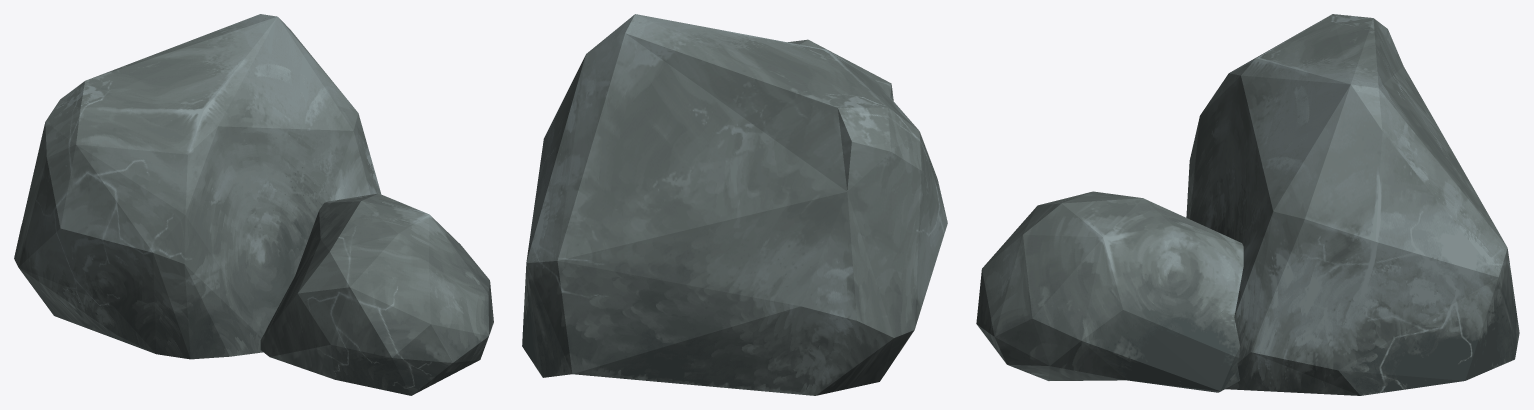
File: glaz_podwojny.obj
3 renders of one model, left to right at view 1: azimuth 30°, elevation 25°; view 2: azimuth 150°, elevation 25°; view 3: azimuth 270°, elevation 25°, orthographic. The views are drawn at different scales.
Visible parts, largest first — view 1: rock.008; view 2: rock.008; view 3: rock.008.
Part boxes in pixels (x1,y1,x2,y2): rock.008: (14,14,493,395); rock.008: (522,14,947,395); rock.008: (976,14,1519,395).
Bounding box in the file's own units: 28.24 × 20.64 × 36.56.
Materials: 1 (1 with a texture image).
